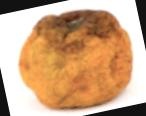Orange Rotten: (2, 0, 146, 116)
